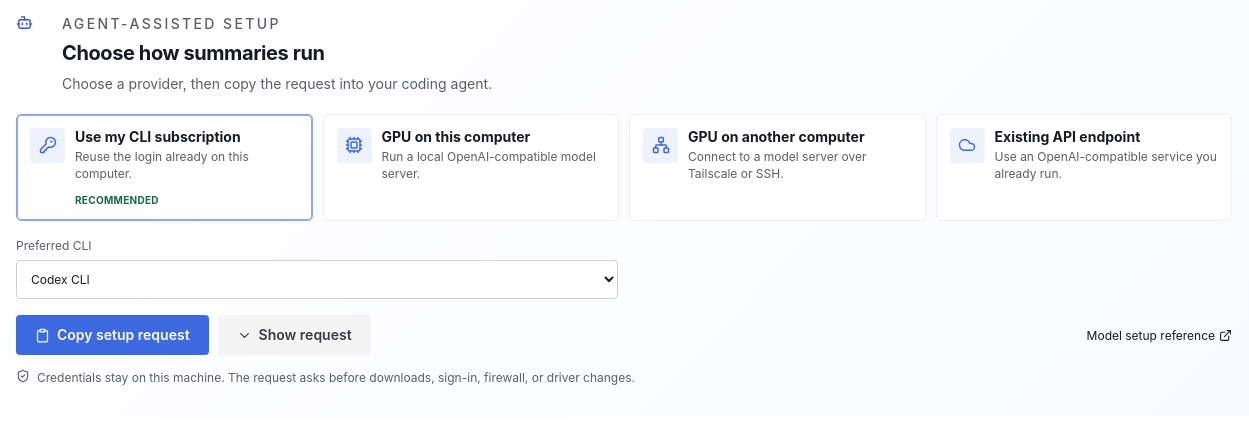
it: agent-assisted summary setup › keeps direct actions honest when the server has not wired them
Click the radio button labelled "GPU on this computer".
click(354, 145)  # box [322,114,619,221]
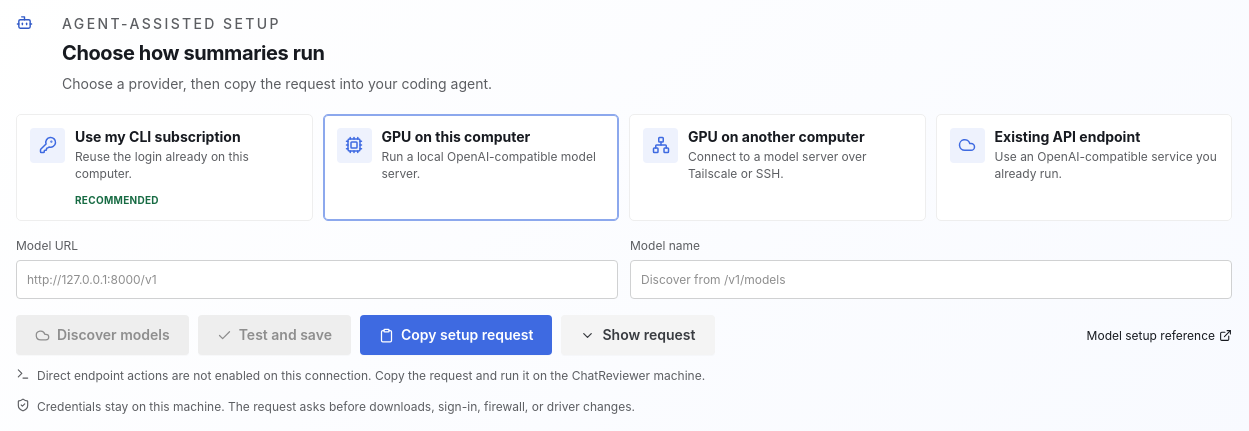
Check: the button "Discover models" is disabled, box [16,315,189,355]
Check: the button "Test and save" is disabled, box [198,315,351,355]
Check: the text "Direct endpoint actions are not enabled" is shown, box [37,368,372,383]
